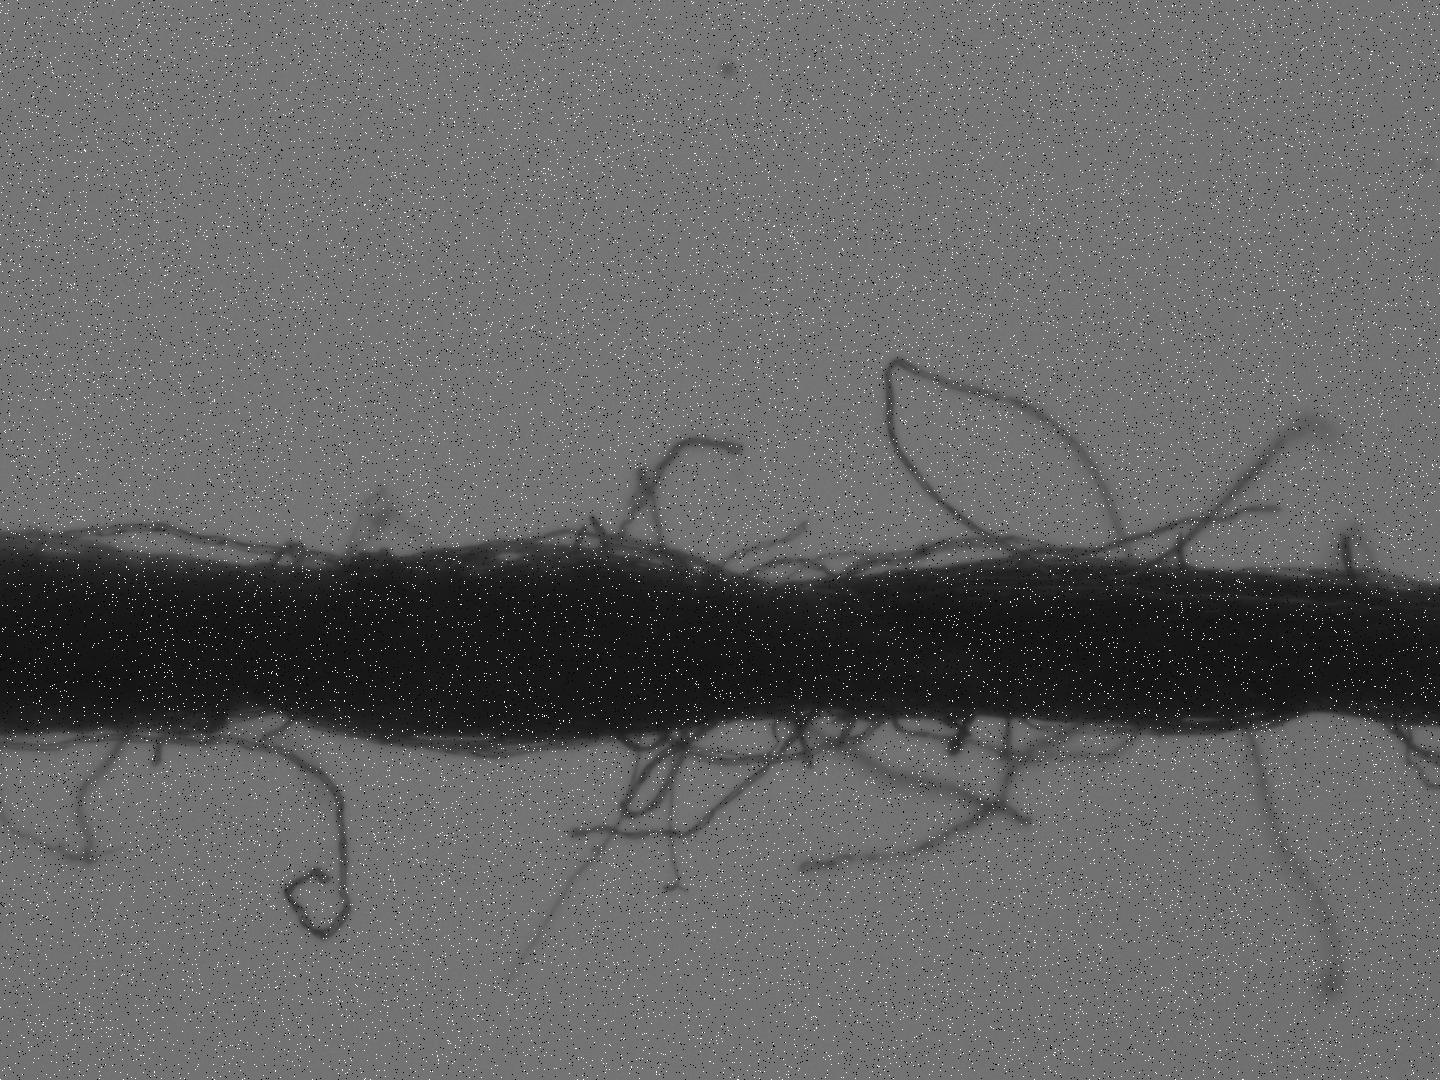loop_fiber: (884, 351, 1128, 564), (29, 524, 320, 575), (515, 532, 761, 588), (887, 711, 1133, 765), (825, 534, 1077, 585), (653, 711, 879, 768), (451, 540, 642, 576), (372, 736, 551, 761), (730, 559, 853, 591), (391, 547, 503, 579), (266, 540, 351, 579), (137, 711, 240, 739), (611, 731, 667, 756)
protruding_fiber: (576, 715, 810, 846), (1243, 727, 1340, 999), (598, 439, 742, 557), (1333, 532, 1367, 598)
